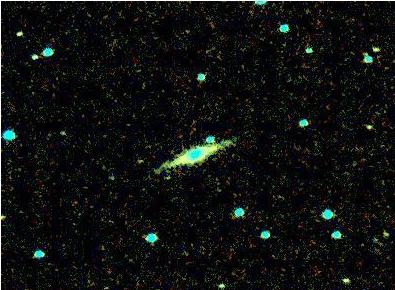star: (126, 146, 156, 176)
